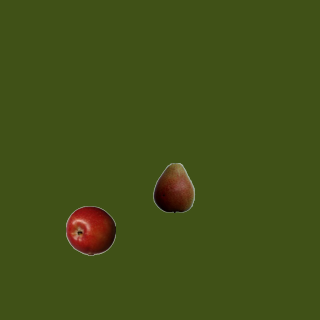Apple Braeburn: (65, 205, 115, 255)
Pear Forelle: (148, 162, 198, 212)
